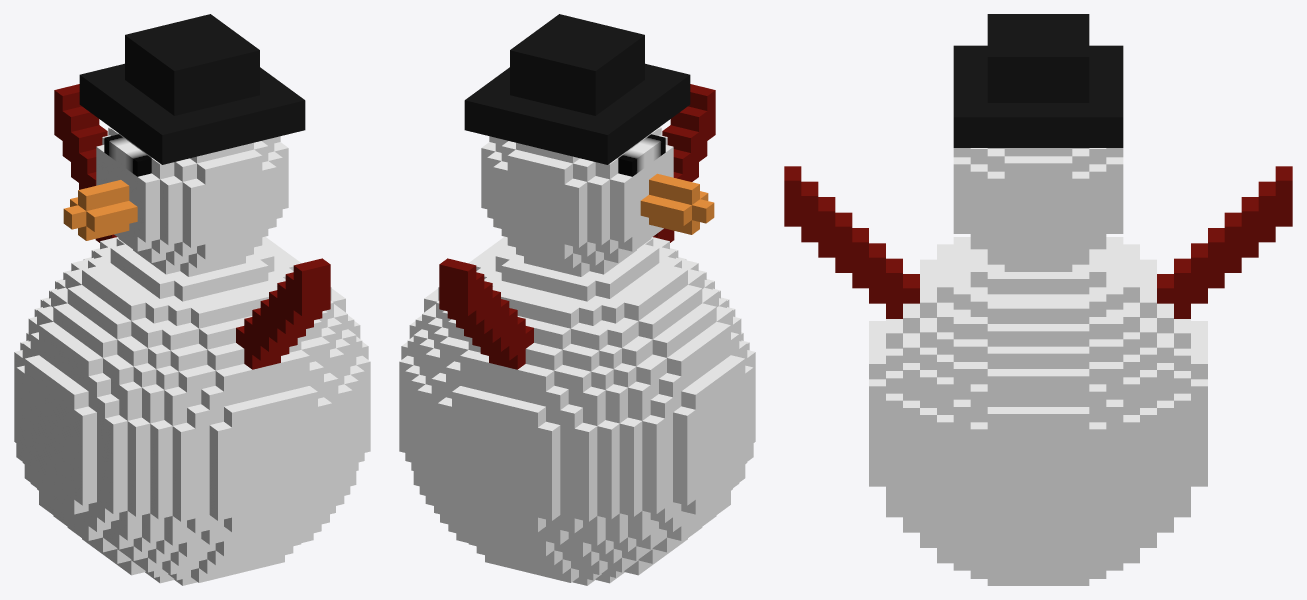
Rendered from Snowman.fbx.
3 renders of one model, left to right at view 1: azimuth 30°, elevation 25°; view 2: azimuth 150°, elevation 25°; view 3: azimuth 270°, elevation 25°, orthographic. The views are drawn at different scales.
Parts seen in each view (by area): view 1: Snowman; view 2: Snowman; view 3: Snowman.
Part boxes in pixels (x1=…): Snowman: x1=14, y1=14, x2=370, y2=585; Snowman: x1=399, y1=14, x2=755, y2=585; Snowman: x1=784, y1=14, x2=1292, y2=585.
Bounding box in the file's own units: 20 × 34 × 30.
Materials: 1 (1 with a texture image).
